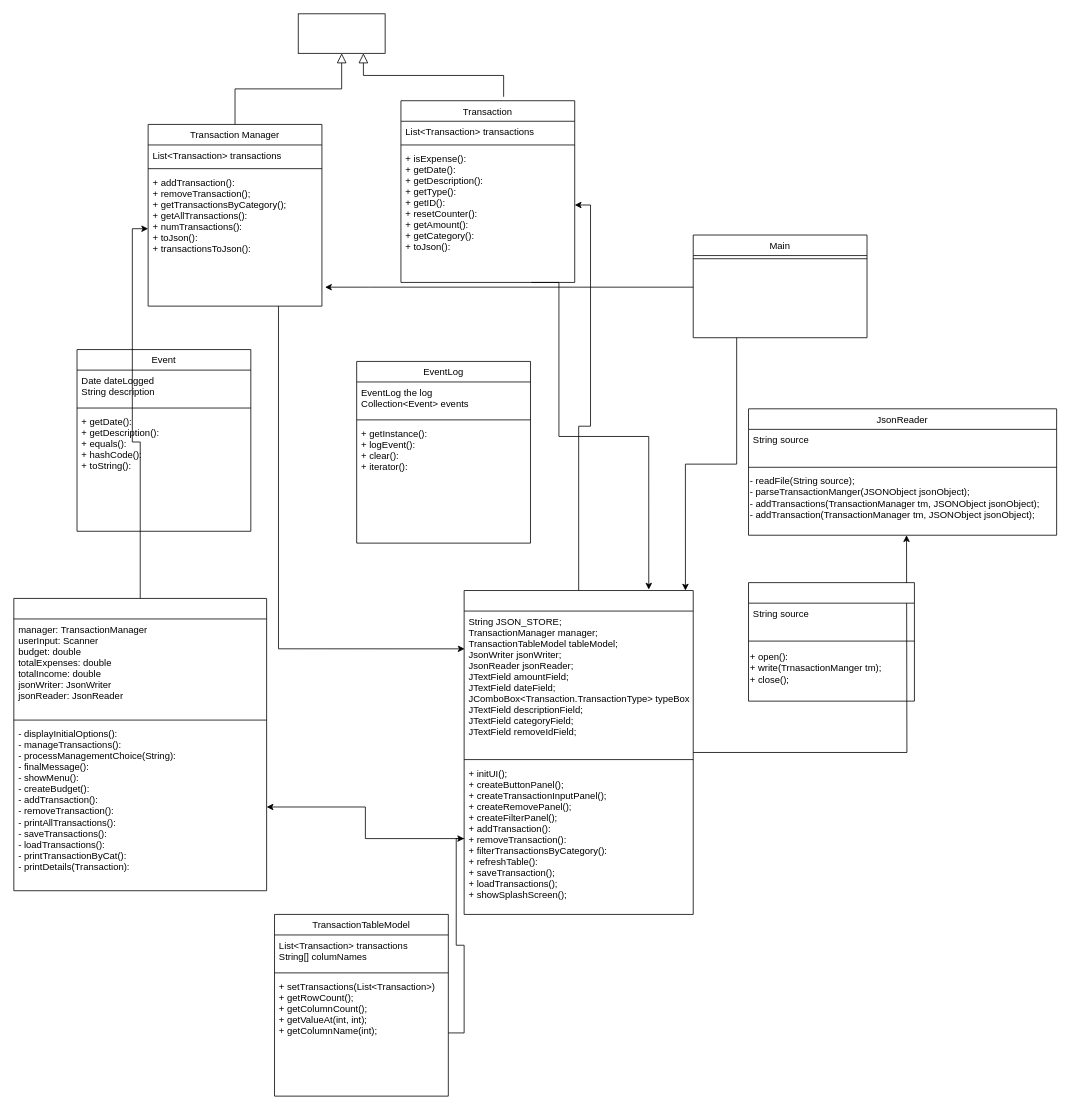
Some shapes in this 1070 by 1110 pixel diagram are drawn without their labels. Here are the shapes that lost their labels. From the top down, the box of each, then its label:
(297, 13, 385, 53): «interface» Writable
(748, 582, 914, 701): JsonWriter
(13, 598, 267, 891): ManagerApp
(463, 590, 693, 914): GuiManagerApp
